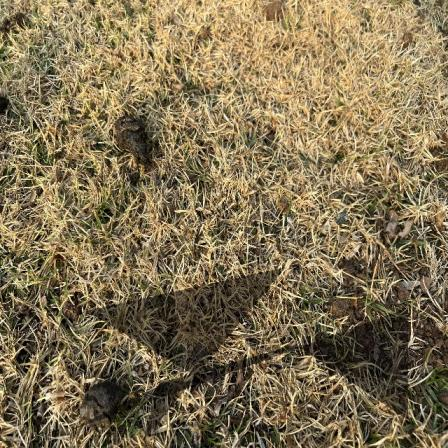dog-poop: (77, 380, 118, 428), (115, 116, 149, 167)
